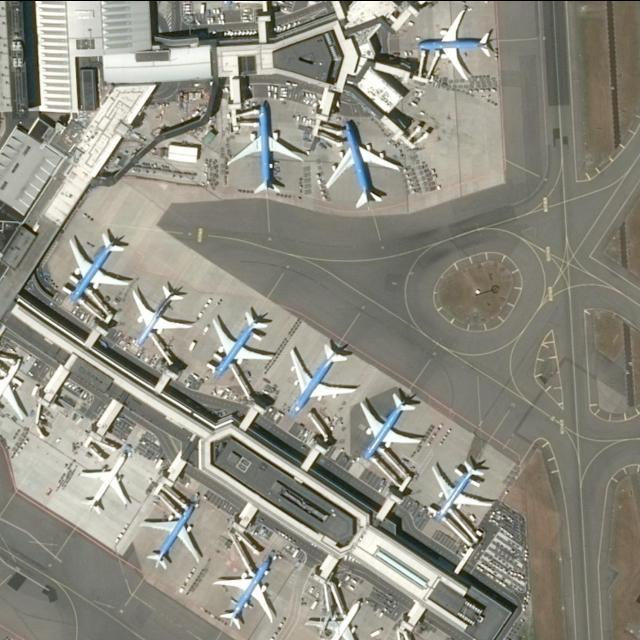Aircraft: (229, 100, 303, 197), (326, 118, 402, 207), (418, 5, 496, 79), (290, 336, 355, 417), (361, 389, 426, 461), (213, 554, 275, 629), (208, 309, 276, 377), (68, 230, 130, 302), (143, 500, 201, 570), (135, 280, 195, 346), (432, 460, 496, 520), (81, 446, 130, 516), (305, 595, 367, 640), (0, 355, 26, 429)
